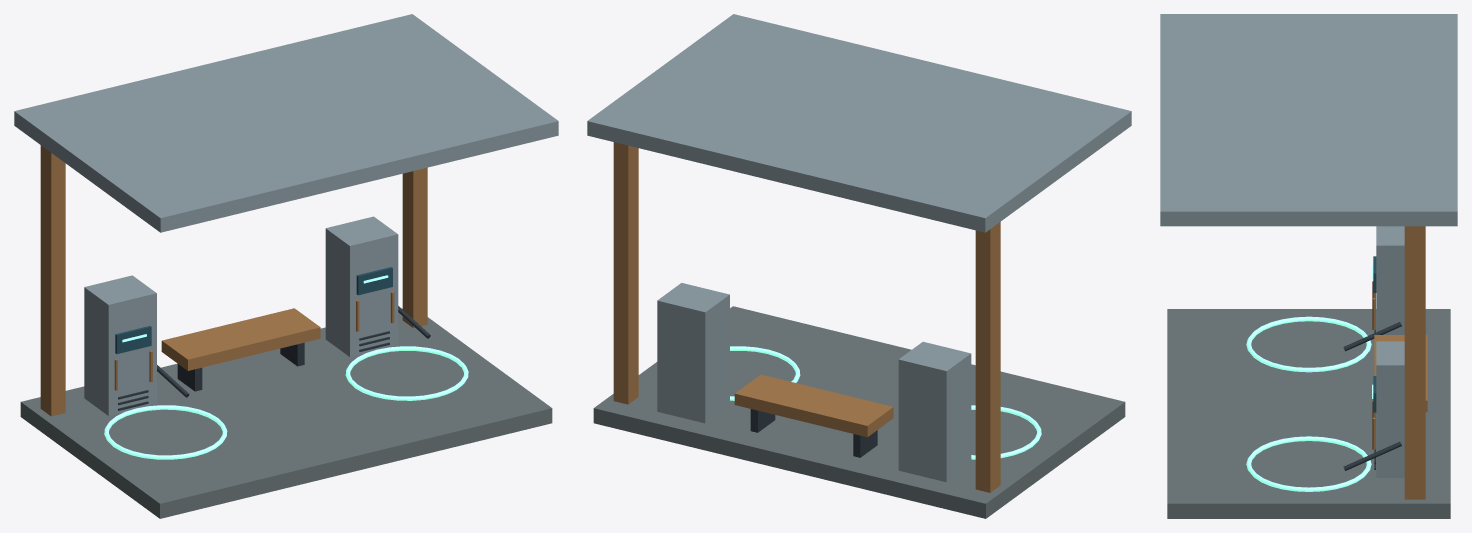
File: meeting-charge.lod1.glb
The picture shows the model from 3 angles, left to right: view 1: azimuth 30°, elevation 25°; view 2: azimuth 150°, elevation 25°; view 3: azimuth 270°, elevation 25°; orthographic projection.
Parts seen in each view (by area): view 1: structure; view 2: structure; view 3: structure.
Boxes of the visible parts, x1,y1,x2,y2 form: structure: [14, 14, 558, 518]; structure: [587, 14, 1131, 518]; structure: [1160, 14, 1457, 518].
Size of the model in its own units: 6.6 by 4.81 by 4.2.
